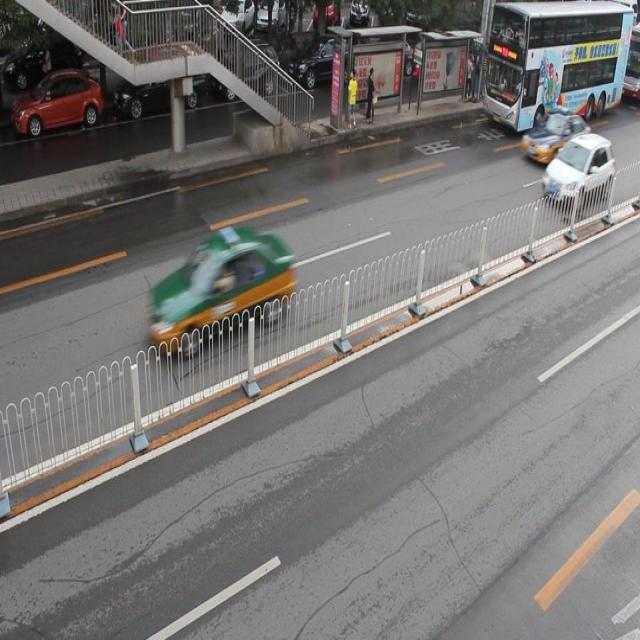car: (149, 226, 291, 348), (14, 72, 103, 139), (116, 54, 204, 119), (541, 131, 613, 207), (521, 106, 588, 164), (287, 36, 357, 90), (218, 41, 279, 102)
van: (484, 1, 630, 135)
